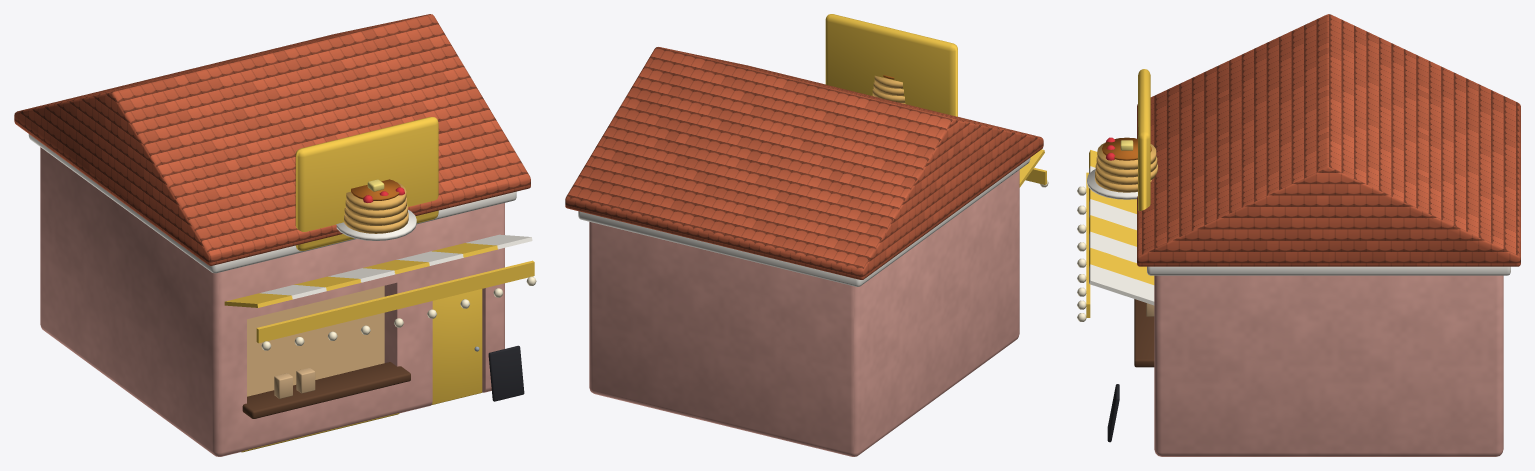
Rendered from restaurant_pancakes.gltf.
The picture shows the model from 3 angles, left to right: view 1: azimuth 30°, elevation 25°; view 2: azimuth 150°, elevation 25°; view 3: azimuth 270°, elevation 25°; orthographic projection. The views are drawn at different scales.
Visible parts, largest first — view 1: restaurant_pancakes_mesh, INT_door_restaurant_pancakes, restaurant_pancakes_sign, INT_counter_pancakes; view 2: restaurant_pancakes_mesh, restaurant_pancakes_sign; view 3: restaurant_pancakes_mesh, restaurant_pancakes_sign, INT_counter_pancakes.
Boxes of the visible parts, bbox=[...] form: restaurant_pancakes_mesh: bbox=[14, 14, 534, 456]; INT_door_restaurant_pancakes: bbox=[432, 289, 482, 404]; restaurant_pancakes_sign: bbox=[261, 179, 536, 350]; INT_counter_pancakes: bbox=[242, 362, 410, 418]; restaurant_pancakes_mesh: bbox=[565, 14, 1046, 456]; restaurant_pancakes_sign: bbox=[871, 75, 1048, 187]; restaurant_pancakes_mesh: bbox=[1086, 14, 1520, 456]; restaurant_pancakes_sign: bbox=[1077, 137, 1157, 321]; INT_counter_pancakes: bbox=[1134, 299, 1154, 367].
Size of what is drawn, in the model's own units: 7.3 by 6.64 by 8.9.
17 materials, 2 textured.
